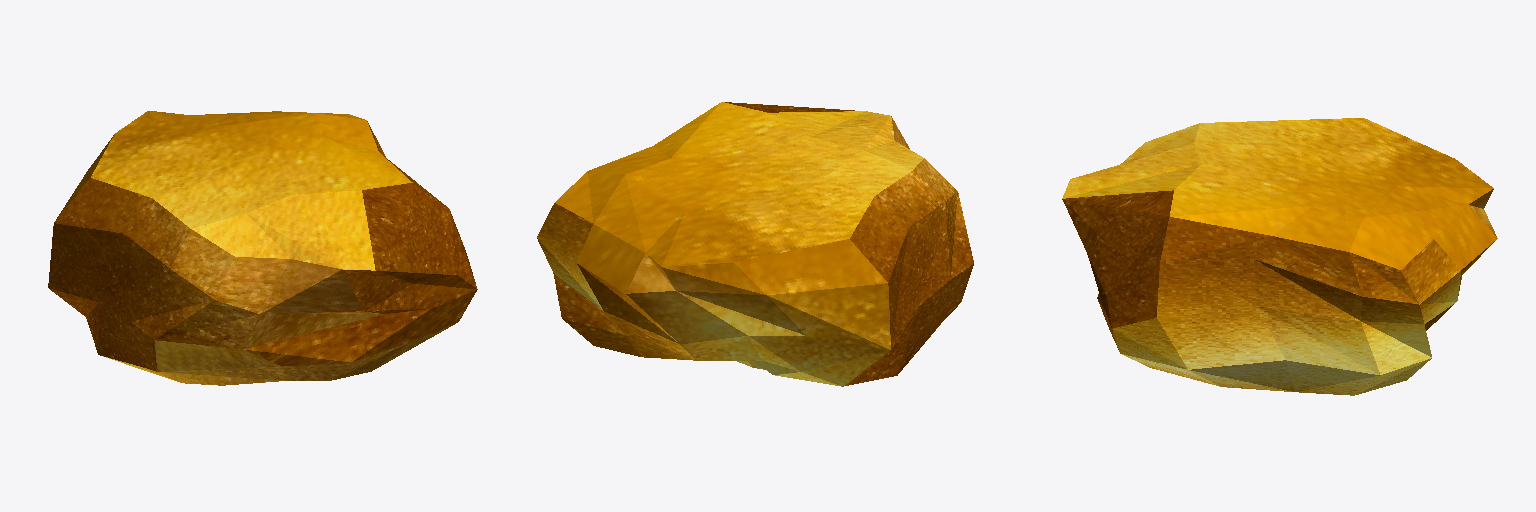
3 views of the same model, side by side, from view 1: azimuth 30°, elevation 25°; view 2: azimuth 150°, elevation 25°; view 3: azimuth 270°, elevation 25° (orthographic).
Parts seen in each view (by area): view 1: Cube; view 2: Cube; view 3: Cube.
Boxes of the visible parts, <box> form: Cube: <box>48,111,477,385</box>; Cube: <box>537,102,973,386</box>; Cube: <box>1062,118,1497,395</box>.
Size of the model in its own units: 3.18 by 1.68 by 3.63.
Materials: 1 (1 with a texture image).